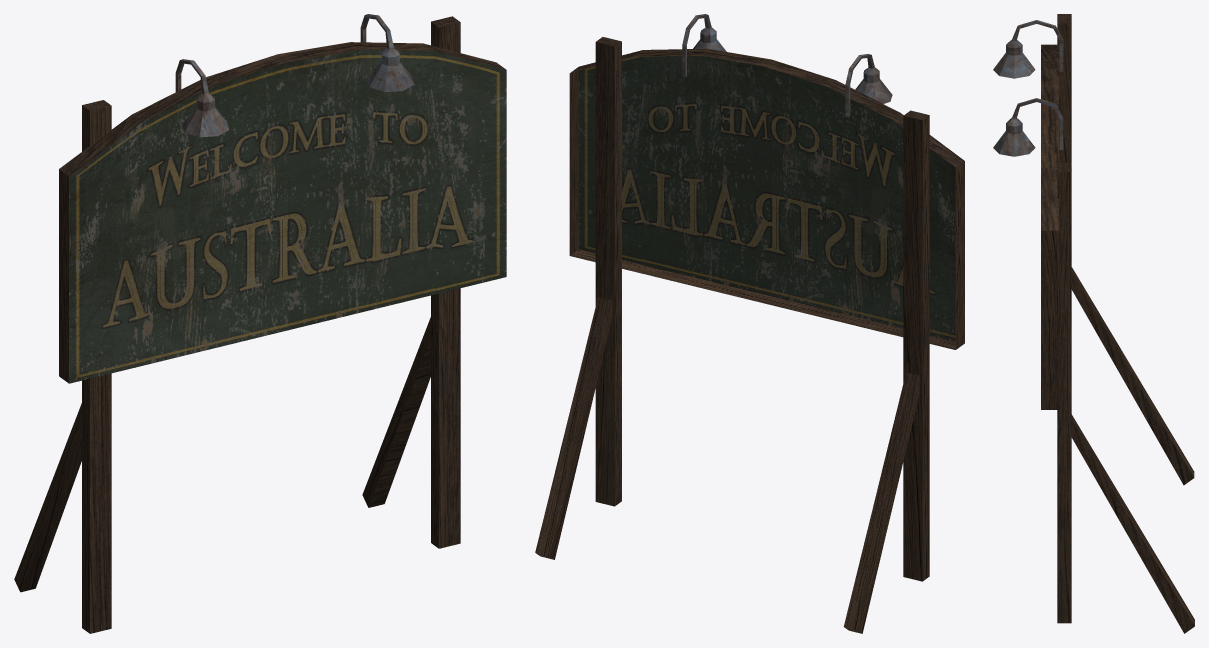
Rendered from australiasign.fbx.
3 renders of one model, left to right at view 1: azimuth 30°, elevation 25°; view 2: azimuth 150°, elevation 25°; view 3: azimuth 270°, elevation 25°, orthographic. The views are drawn at different scales.
Parts seen in each view (by area): view 1: pCube9; view 2: pCube9; view 3: pCube9.
Part boxes in pixels (x1,y1,x2,y2): pCube9: [14, 14, 506, 633]; pCube9: [535, 14, 964, 633]; pCube9: [993, 14, 1194, 633].
Bounding box in the file's own units: 1.15 × 1.44 × 0.5324.
